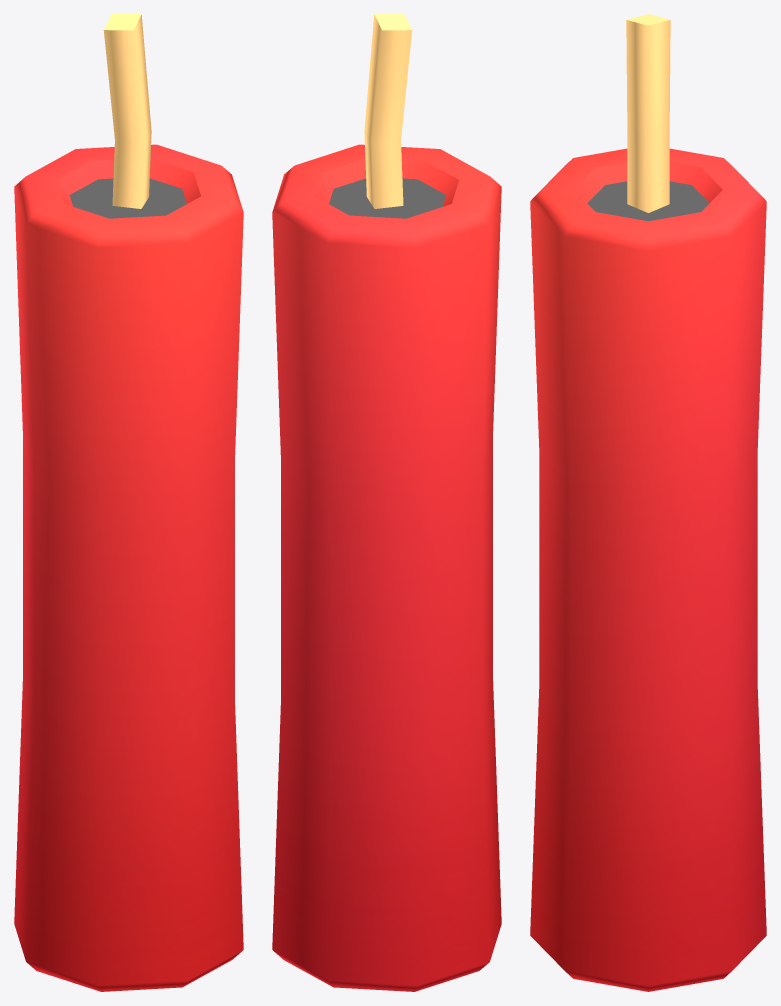
The model's file is dynamite_001.glb.
3 renders of one model, left to right at view 1: azimuth 30°, elevation 25°; view 2: azimuth 150°, elevation 25°; view 3: azimuth 270°, elevation 25°, orthographic.
Visible parts, largest first — view 1: dynamite_001; view 2: dynamite_001; view 3: dynamite_001.
Part boxes in pixels (x1,y1,x2,y2): dynamite_001: (14, 14, 243, 991); dynamite_001: (272, 14, 501, 991); dynamite_001: (530, 14, 766, 991).
Bounding box in the file's own units: 0.32 × 1.38 × 0.32.
Materials: 1 (1 with a texture image).
